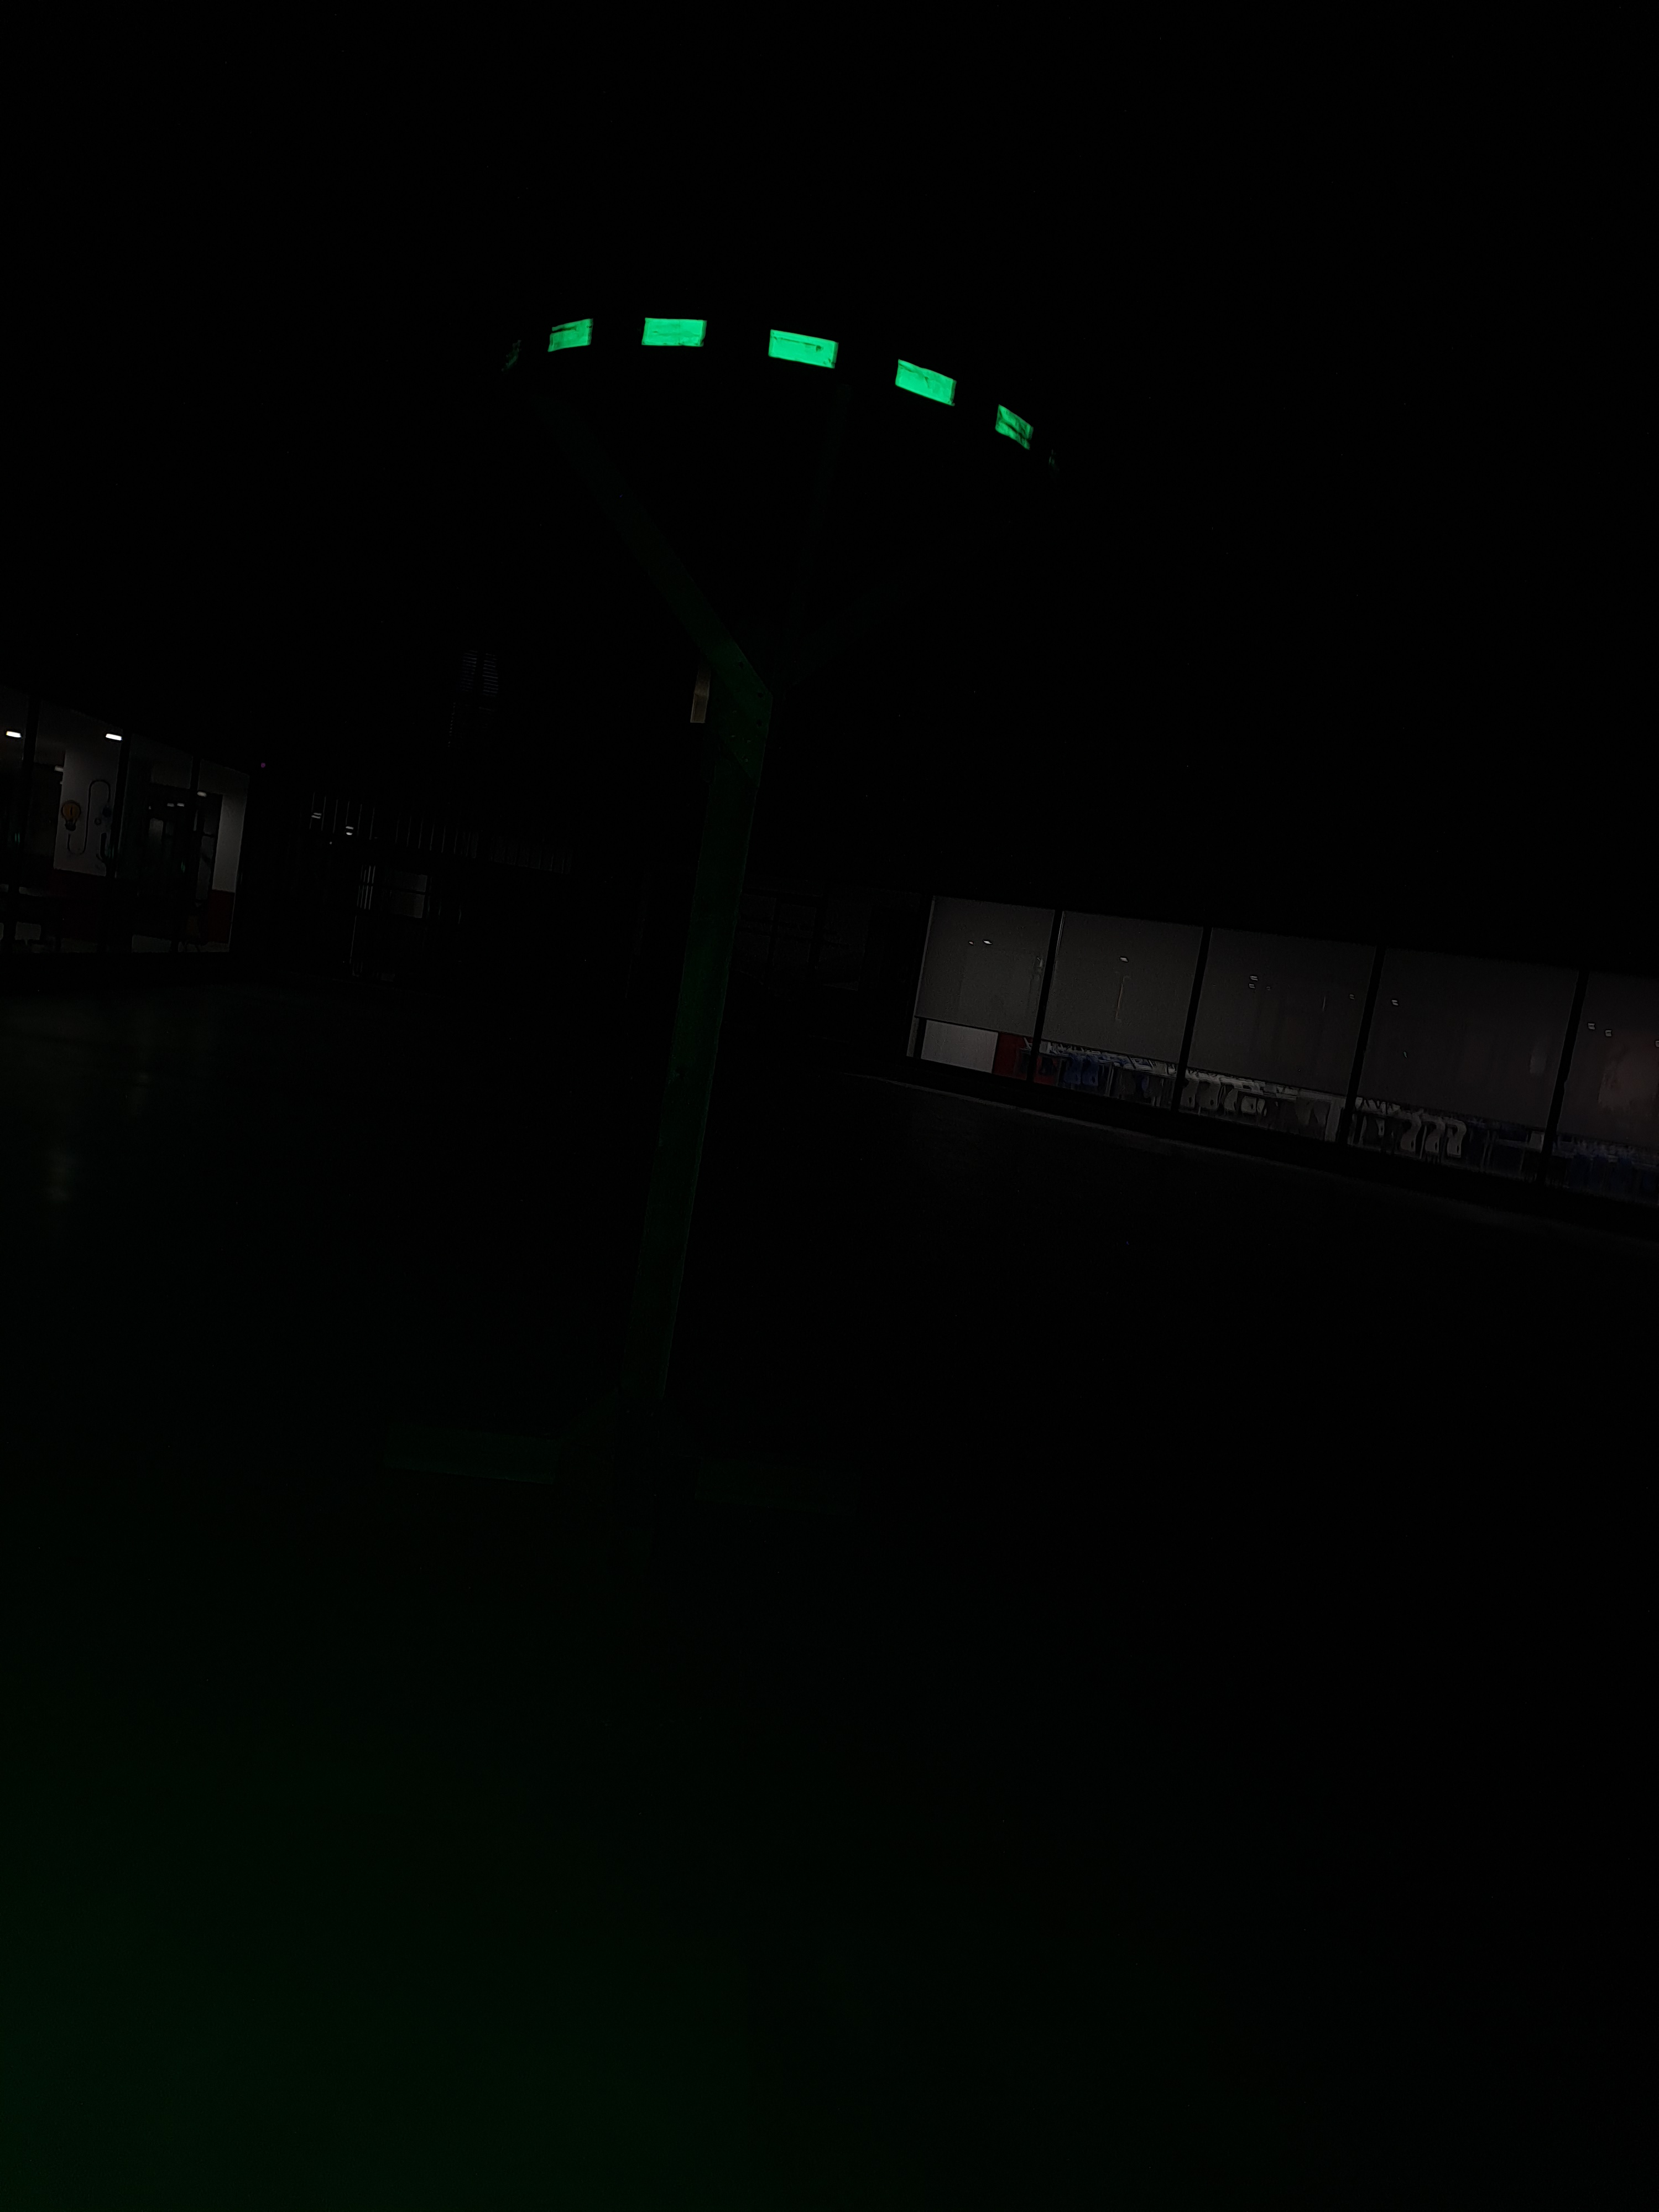hoop: (549, 300, 1039, 458)
